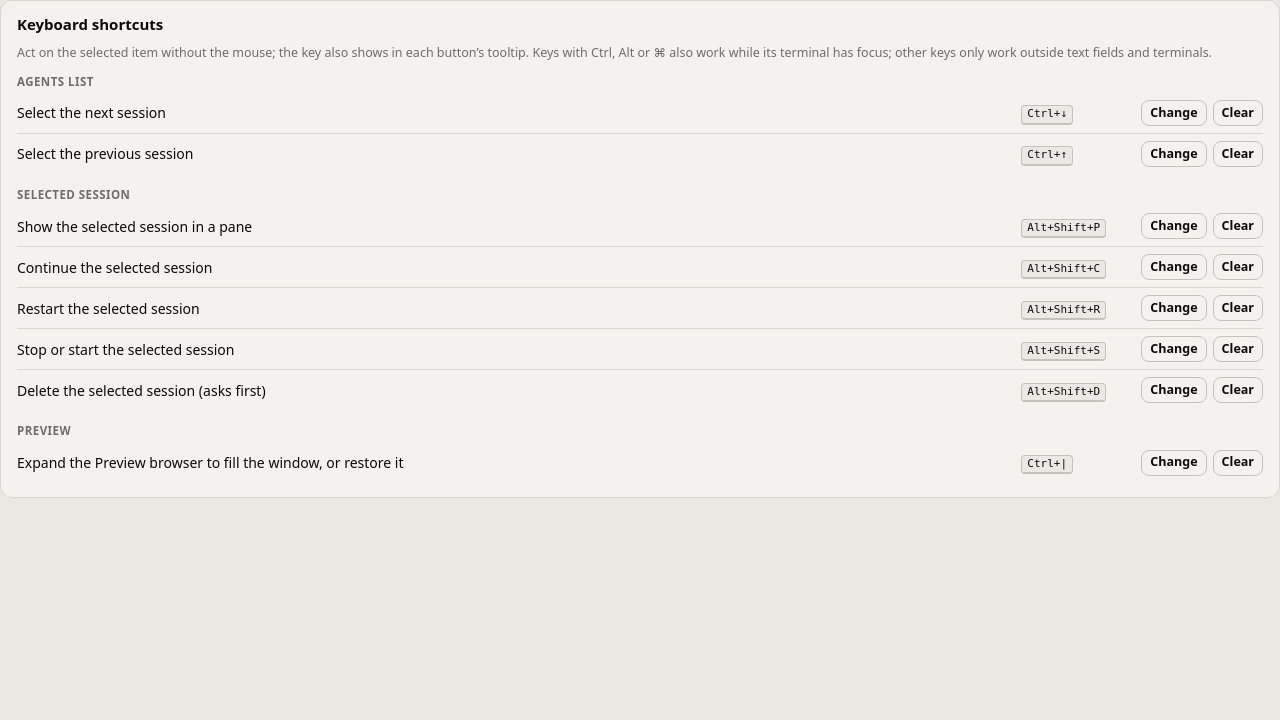
Test: KeyboardShortcutsPanel › clears an action, and resets it to its default
Step 1. Click the button named "Remove the shortcut for Delete the selected session (asks first)" → (1238, 390), box [1213,377,1263,403]
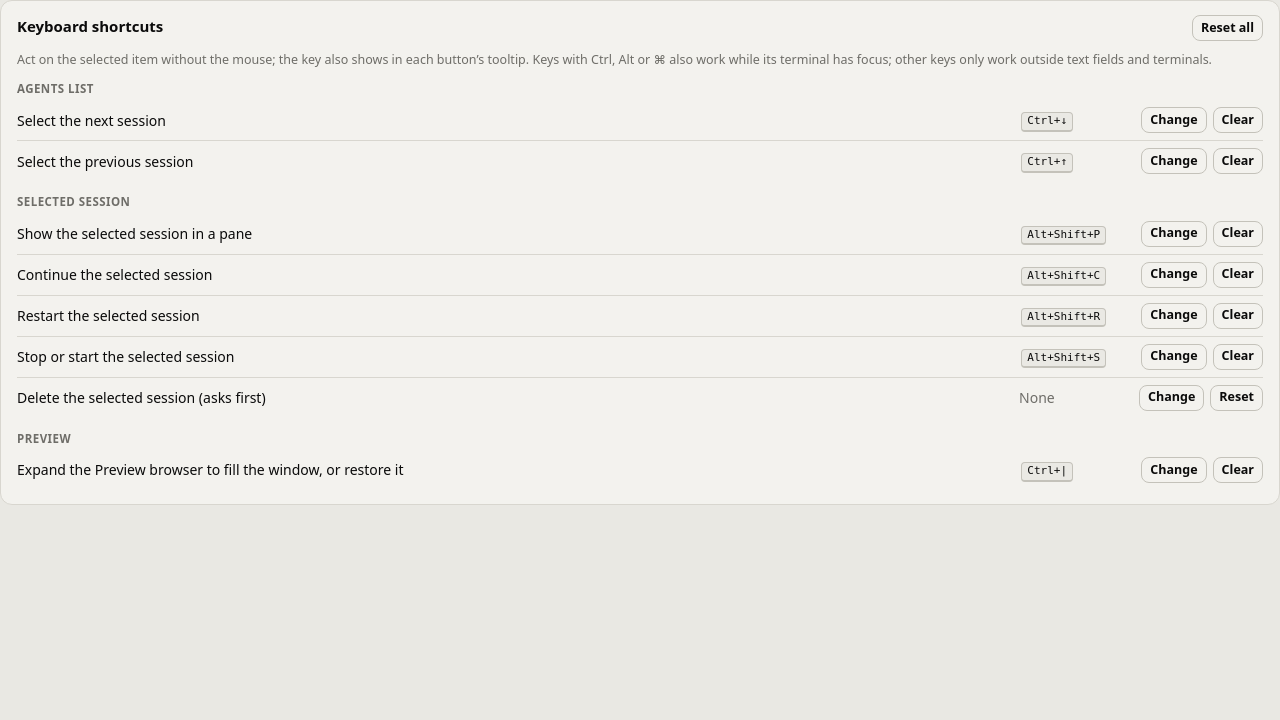
Step 2. Click the button with aria-label "Reset the shortcut for Delete the selected" → (1237, 398), box [1210,384,1263,410]
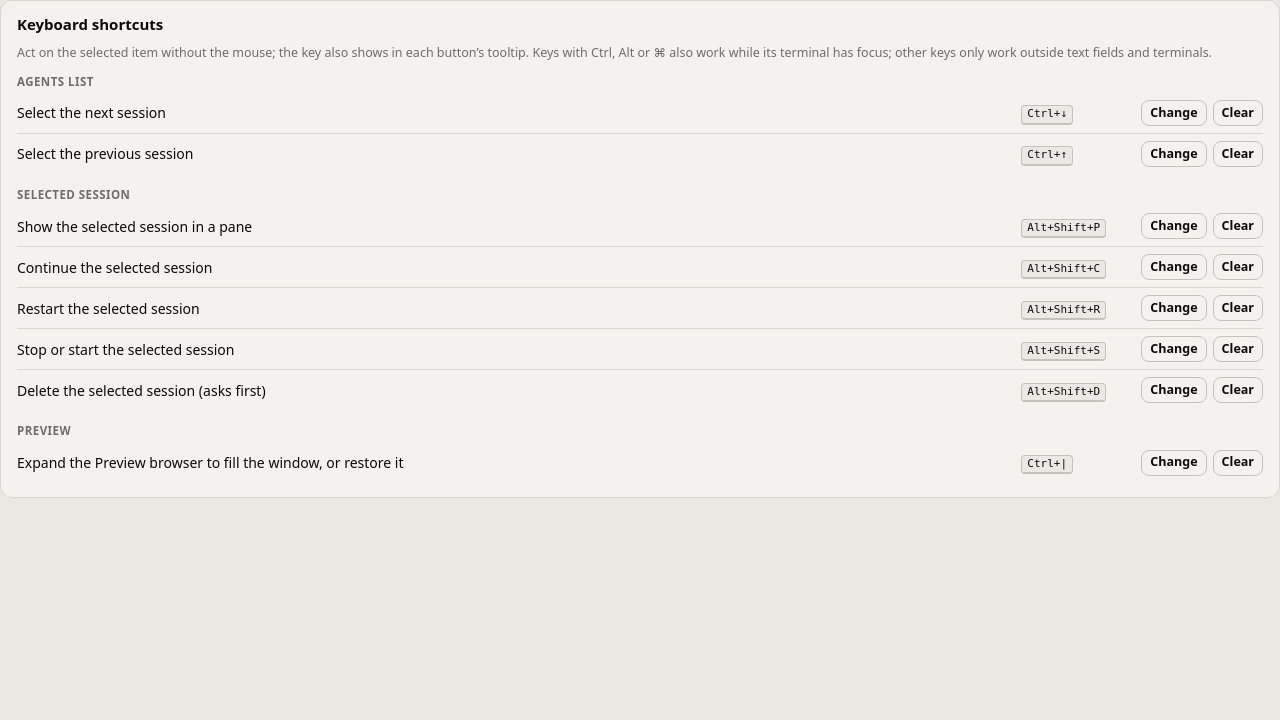
Now the text "Alt+Shift+D" is shown, box [1021,382,1106,402]
